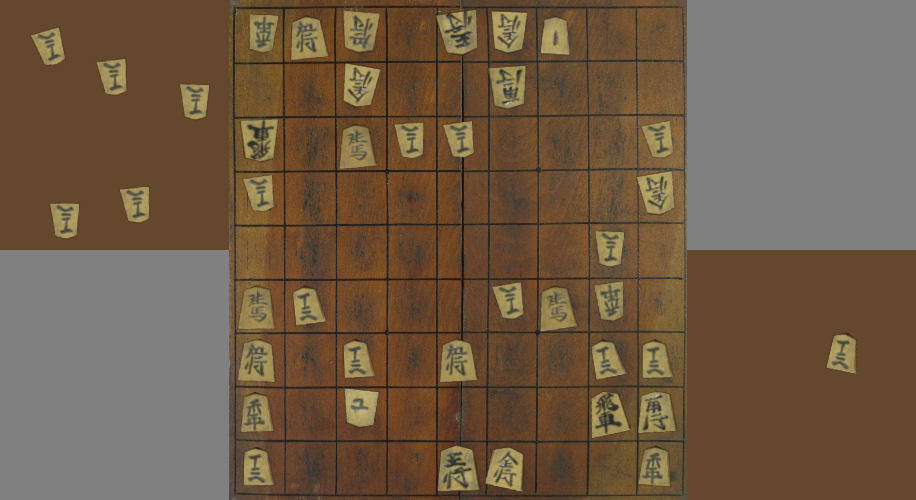A: (334, 123, 380, 174), (436, 444, 482, 493), (482, 444, 527, 494), (285, 16, 334, 61), (588, 392, 633, 440), (537, 286, 582, 333), (636, 389, 680, 436), (237, 286, 281, 331), (438, 337, 482, 382), (236, 391, 279, 437), (238, 340, 280, 387), (636, 441, 674, 492), (588, 337, 631, 381), (336, 337, 378, 382), (540, 13, 581, 59), (292, 283, 330, 327), (638, 337, 675, 381), (238, 447, 277, 488)
B: (434, 9, 486, 56), (238, 115, 281, 165), (635, 168, 680, 215), (486, 65, 532, 110), (341, 382, 382, 431), (341, 58, 380, 108), (489, 7, 530, 53), (342, 7, 380, 53), (240, 171, 280, 212), (593, 279, 629, 324), (391, 118, 427, 160), (489, 281, 528, 318), (440, 120, 476, 160), (246, 11, 279, 53), (641, 118, 675, 158), (591, 230, 623, 269)
C: (825, 332, 860, 378)
D: (172, 81, 218, 126), (30, 27, 70, 73), (95, 54, 130, 102), (47, 202, 87, 244), (120, 186, 159, 227)
